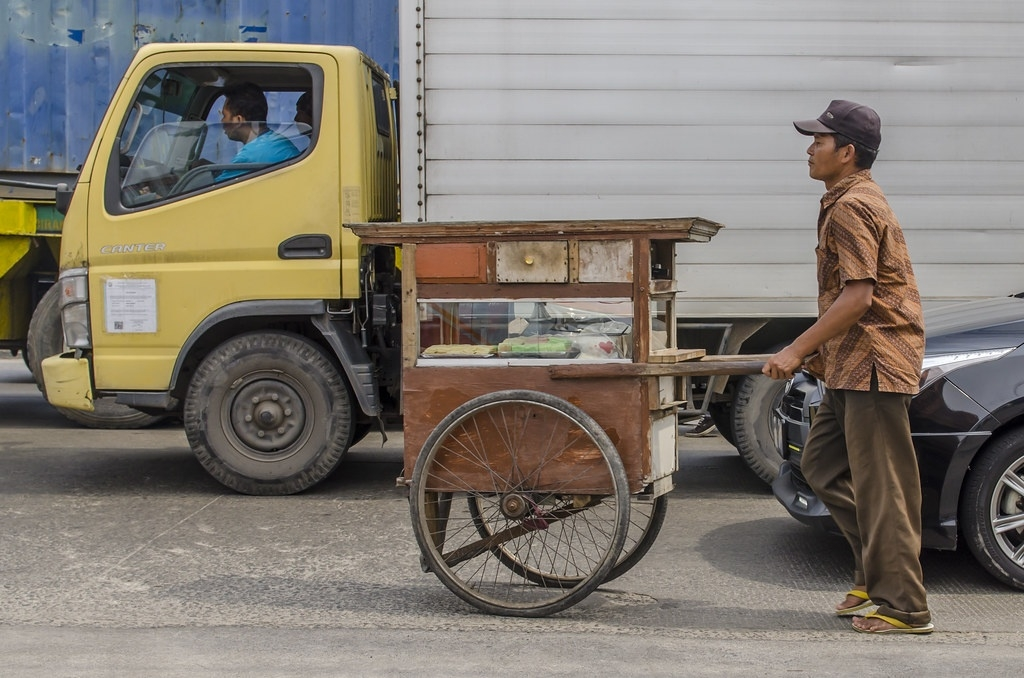gerobak: (354, 218, 762, 615)
